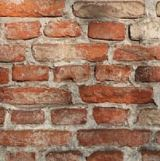brick: (31, 41, 108, 62), (79, 84, 154, 105), (1, 129, 74, 149), (71, 1, 146, 19), (1, 86, 73, 104), (77, 129, 152, 146), (1, 1, 65, 17), (114, 41, 159, 60), (88, 20, 125, 40), (4, 20, 41, 39), (45, 20, 82, 39), (92, 106, 128, 125), (12, 65, 48, 82), (95, 65, 131, 82), (52, 66, 91, 81), (51, 109, 87, 125), (1, 43, 27, 63), (10, 110, 44, 124), (135, 106, 159, 125), (134, 65, 160, 81), (86, 150, 123, 160), (45, 151, 82, 160), (7, 152, 31, 160)
